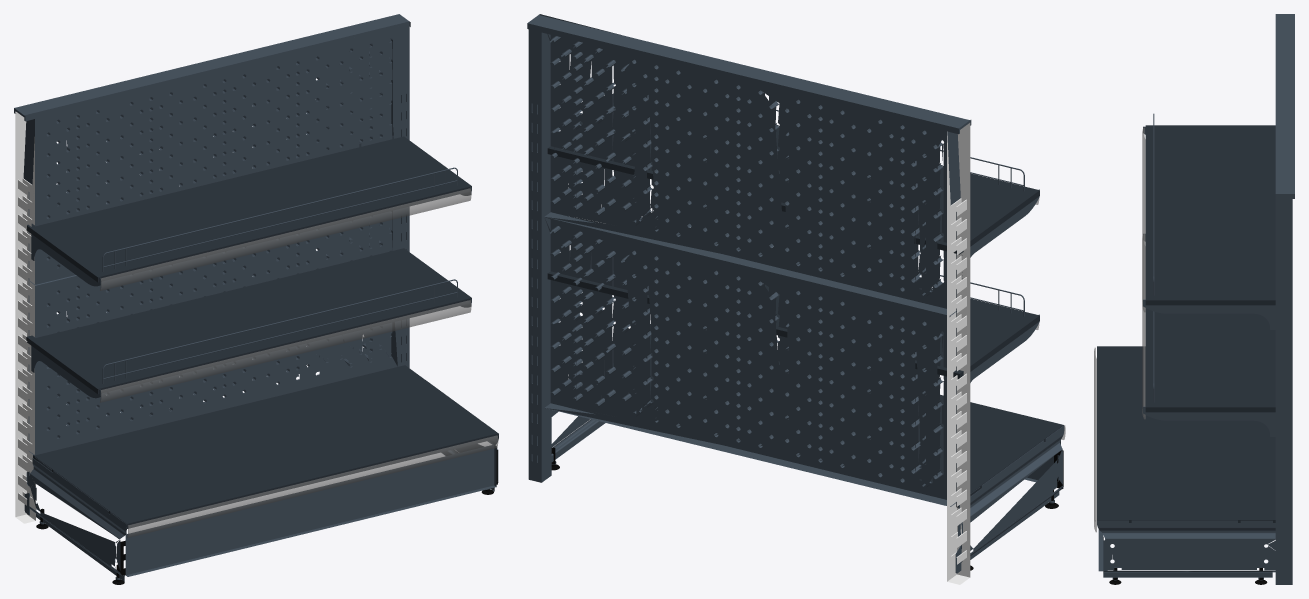
Rendered from WALL-SHELVE-40-39.glb.
3 views of the same model, side by side, from view 1: azimuth 30°, elevation 25°; view 2: azimuth 150°, elevation 25°; view 3: azimuth 270°, elevation 25° (orthographic). The views are drawn at different scales.
Size of the model in its own units: 0.9906 by 1 by 0.4674.
